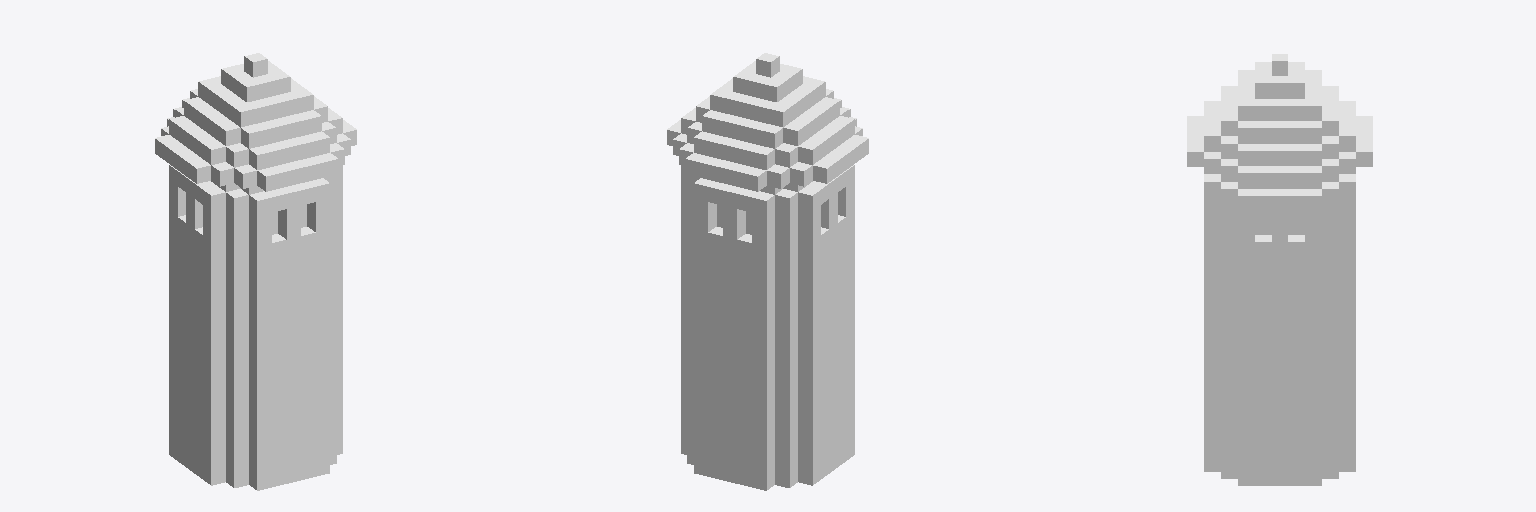
File: archerTowerTest.obj
The picture shows the model from 3 angles: view 1: azimuth 30°, elevation 25°; view 2: azimuth 150°, elevation 25°; view 3: azimuth 270°, elevation 25°; orthographic projection.
Visible parts, largest first — view 1: object 1; view 2: object 1; view 3: object 1.
Part boxes in pixels (x1,y1,x2,y2): object 1: (155,53,356,490); object 1: (667,53,868,490); object 1: (1187,54,1372,485).
Bounding box in the file's own units: 1.1 × 2.6 × 1.1.